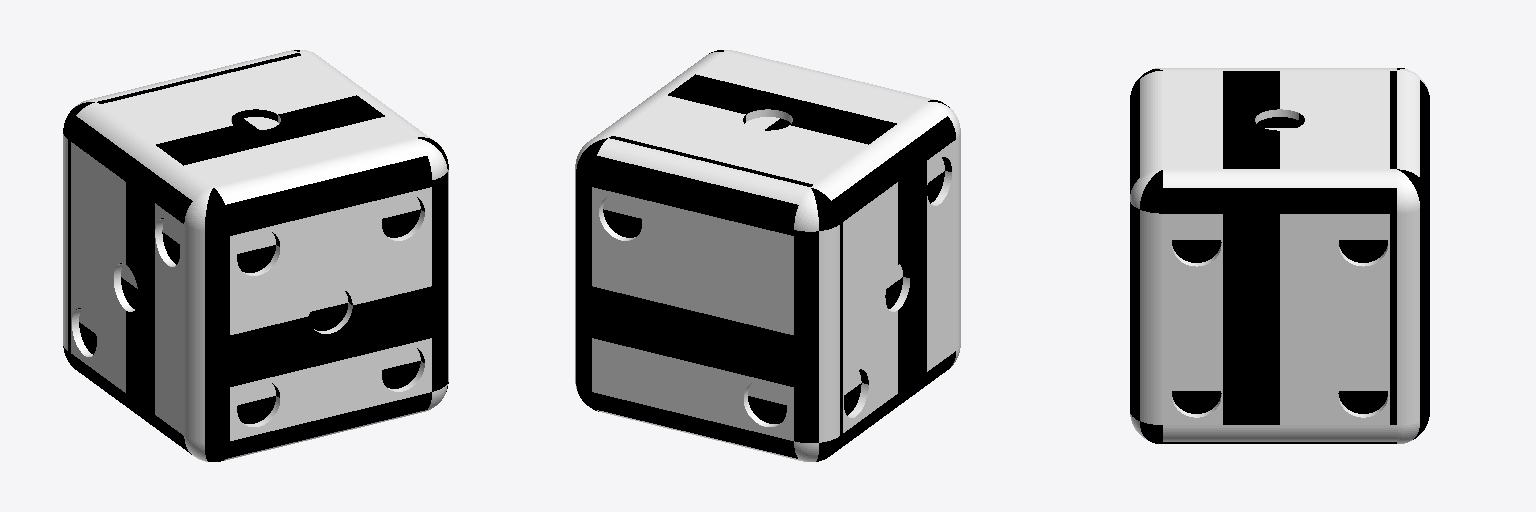
3 renders of one model, left to right at view 1: azimuth 30°, elevation 25°; view 2: azimuth 150°, elevation 25°; view 3: azimuth 270°, elevation 25°, orthographic.
Parts seen in each view (by area): view 1: Solid1; view 2: Solid1; view 3: Solid1.
Boxes of the visible parts, x1=… form: Solid1: x1=63, y1=50, x2=448, y2=461; Solid1: x1=575, y1=50, x2=960, y2=461; Solid1: x1=1130, y1=68, x2=1429, y2=443.
Bounding box in the file's own units: 18 × 18 × 18.
1 materials, 1 textured.